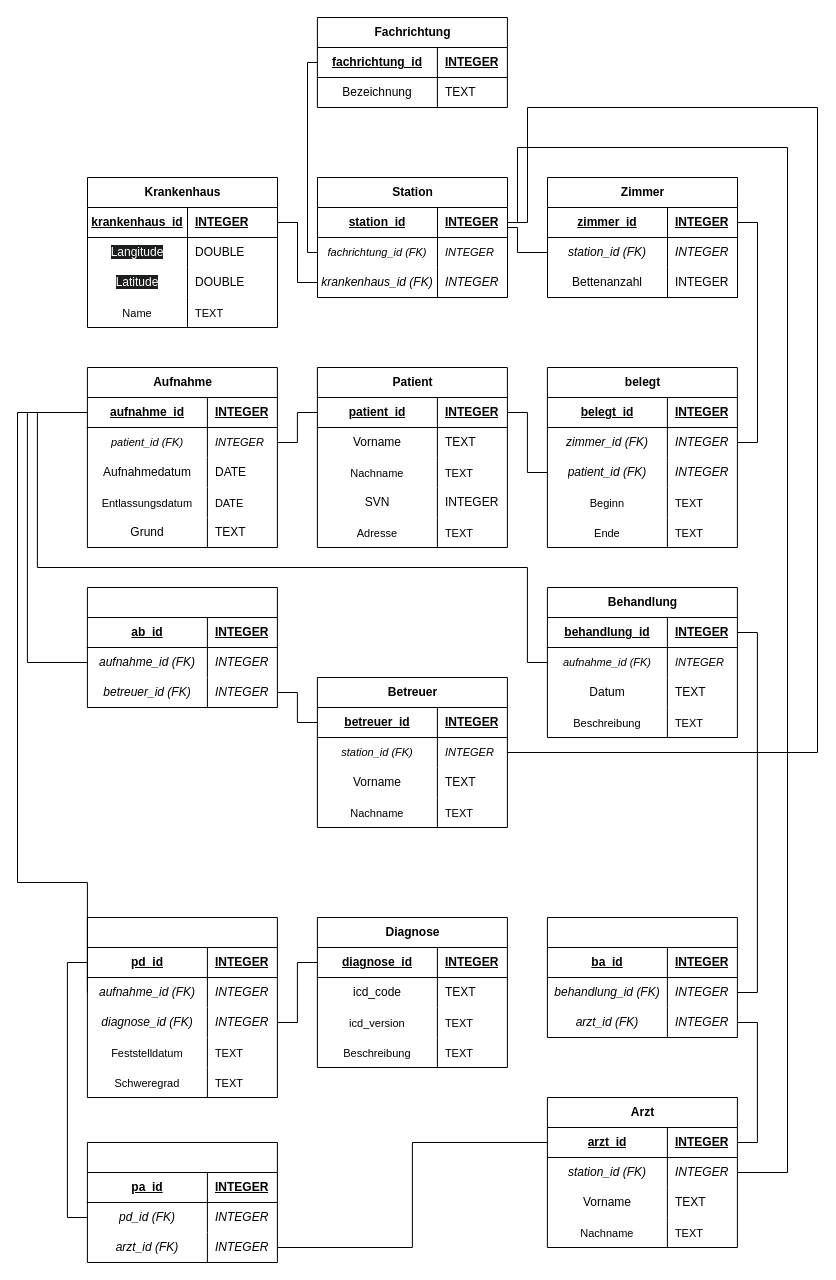
Some shapes in this 836 by 1280 pixel diagram are drawn without their labels. The shapes that lost their labels are listed below. From the top down, each one's box as (x1, y1, x2, y2) in pixels, then its label:
(86, 586, 277, 708): aufnahme_betreuer
(546, 916, 737, 1038): behandlung_arzt
(86, 916, 277, 1098): PD
(86, 1142, 277, 1262): pd_arzt
